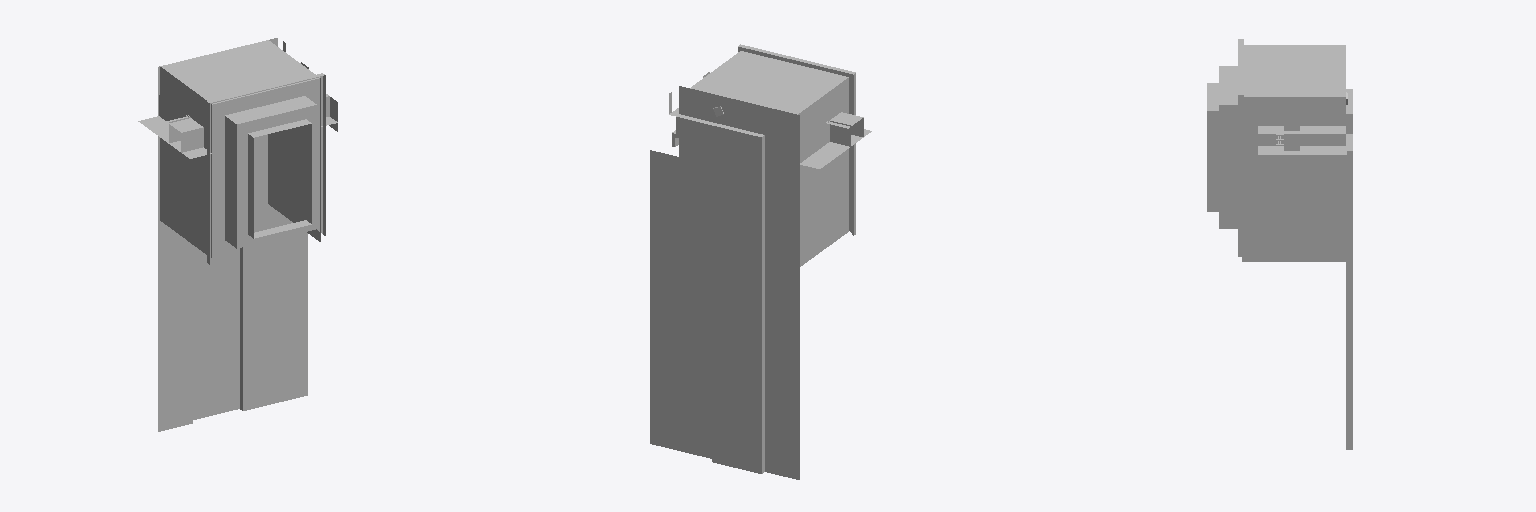
The model's file is aztec_5_mesh.obj.
3 views of the same model, side by side, from view 1: azimuth 30°, elevation 25°; view 2: azimuth 150°, elevation 25°; view 3: azimuth 270°, elevation 25° (orthographic).
Visible parts, largest first — view 1: aztec_5_mesh_0, aztec_5_mesh_1; view 2: aztec_5_mesh_1, aztec_5_mesh_0; view 3: aztec_5_mesh_0, aztec_5_mesh_1.
Boxes of the visible parts, x1,y1,x2,y2 form: aztec_5_mesh_0: [138, 40, 337, 264]; aztec_5_mesh_1: [158, 38, 307, 431]; aztec_5_mesh_1: [650, 86, 850, 479]; aztec_5_mesh_0: [672, 44, 871, 266]; aztec_5_mesh_0: [1207, 39, 1347, 261]; aztec_5_mesh_1: [1276, 89, 1352, 449].
Size of the model in its own units: 24.46 by 50.63 by 18.08.